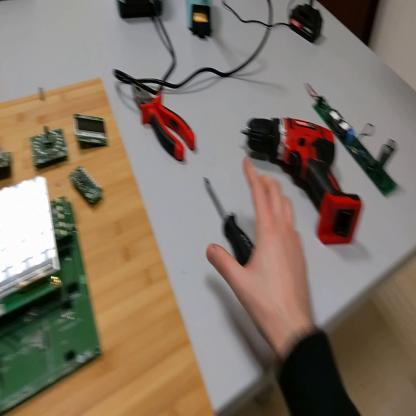electric screwdriver: (242, 111, 365, 248)
electric screwdriver battery: (289, 4, 325, 45)
hand: (209, 154, 314, 346)
high voltage board: (306, 81, 400, 199)
low voltage board: (4, 178, 103, 413)
pliers: (132, 81, 196, 164)
screwdriver-: (200, 176, 256, 264)
welder base: (187, 1, 216, 41)
welder station: (120, 1, 164, 23)
working area: (2, 79, 215, 415)
